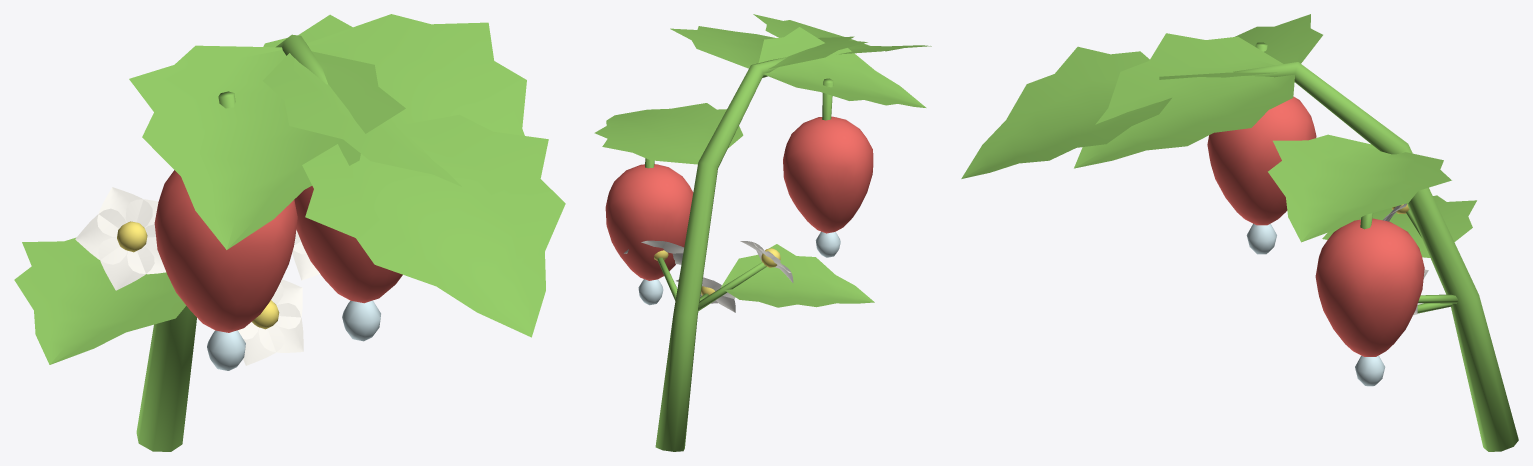
File: SM_Forest_StrawberryPlant_V2.fbx
3 renders of one model, left to right at view 1: azimuth 30°, elevation 25°; view 2: azimuth 150°, elevation 25°; view 3: azimuth 270°, elevation 25°, orthographic. The views are drawn at different scales.
Visible parts, largest first — view 1: SM_Forest_StrawberryPlant_V2; view 2: SM_Forest_StrawberryPlant_V2; view 3: SM_Forest_StrawberryPlant_V2.
Part boxes in pixels (x1,y1,x2,y2): SM_Forest_StrawberryPlant_V2: (14,14,565,451); SM_Forest_StrawberryPlant_V2: (594,14,931,451); SM_Forest_StrawberryPlant_V2: (961,14,1518,451).
Bounding box in the file's own units: 250 × 279 × 366.
